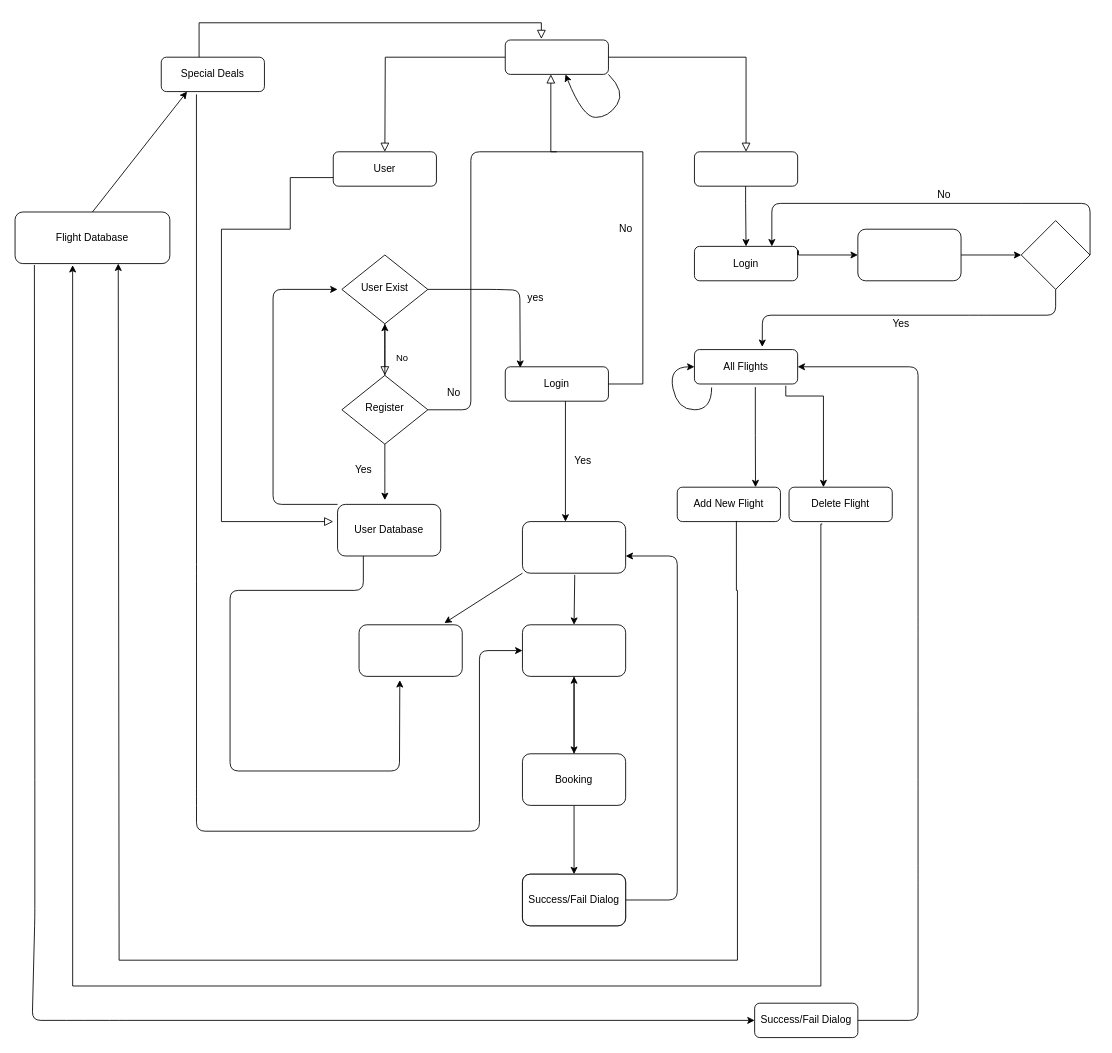
Some shapes in this 1112 by 1053 pixel diagram are drawn without their labels. Here are the shapes that lost their labels. From the top down, the centre of each, then its label:
(556,56): Home Page
(746,168): Admin
(909,254): Admin Database
(1055,254): Admin Exist
(574,547): User Home Page
(410,650): Profile
(574,650): Deals
